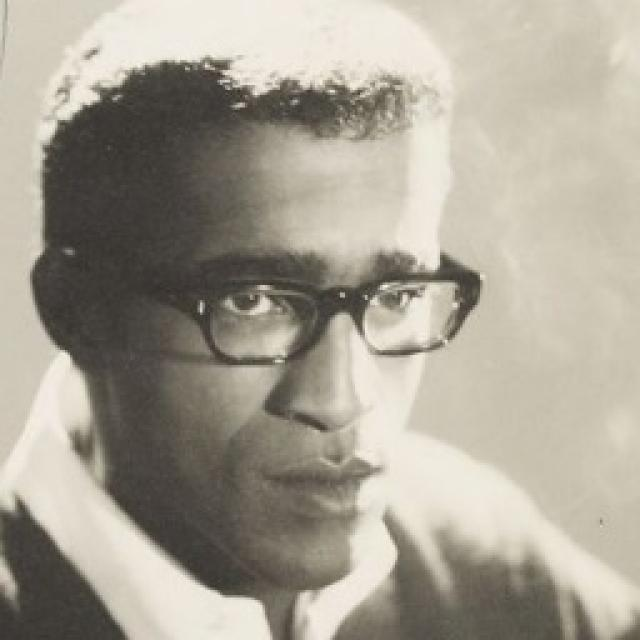glasses: (99, 240, 499, 374)
